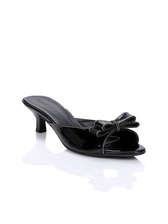shoes: (16, 95, 159, 164)
